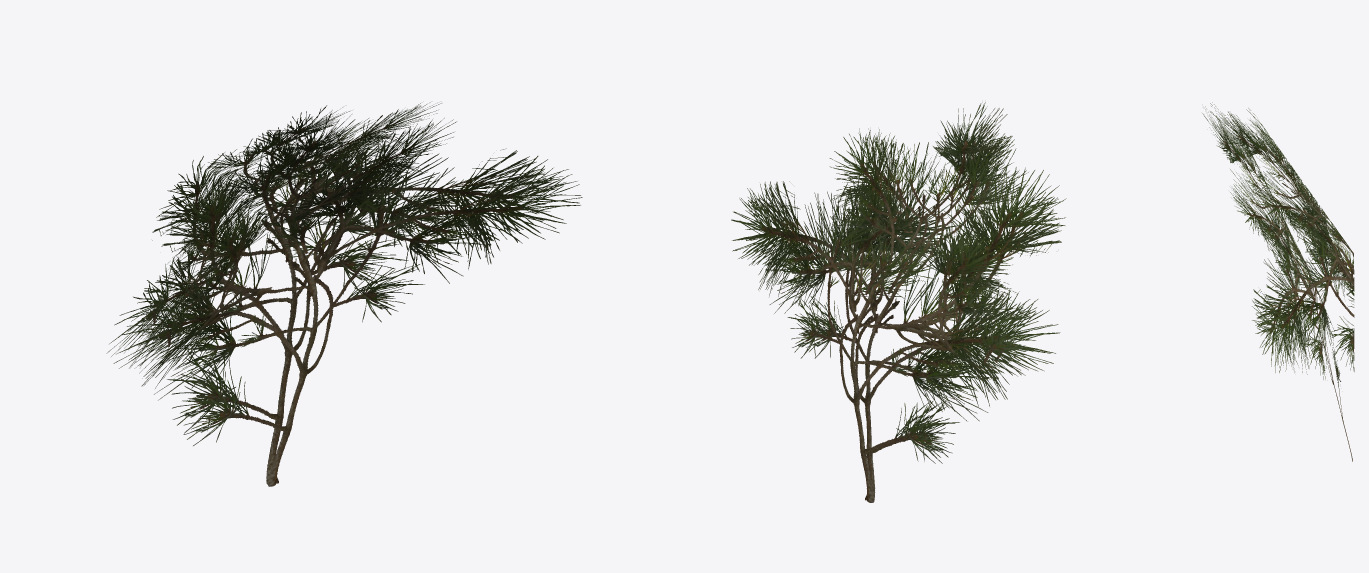
The model's file is Diamond2Sided.FBX.
3 views of the same model, side by side, from view 1: azimuth 30°, elevation 25°; view 2: azimuth 150°, elevation 25°; view 3: azimuth 270°, elevation 25° (orthographic). The views are drawn at different scales.
Parts seen in each view (by area): view 1: Plane001; view 2: Plane001; view 3: Plane001.
Boxes of the visible parts, x1=… form: Plane001: x1=106, y1=102, x2=582, y2=486; Plane001: x1=731, y1=102, x2=1066, y2=502; Plane001: x1=1202, y1=102, x2=1354, y2=461.
Bounding box in the file's own units: 78.69 × 74.21 × 31.68.
Materials: 1 (1 with a texture image).
